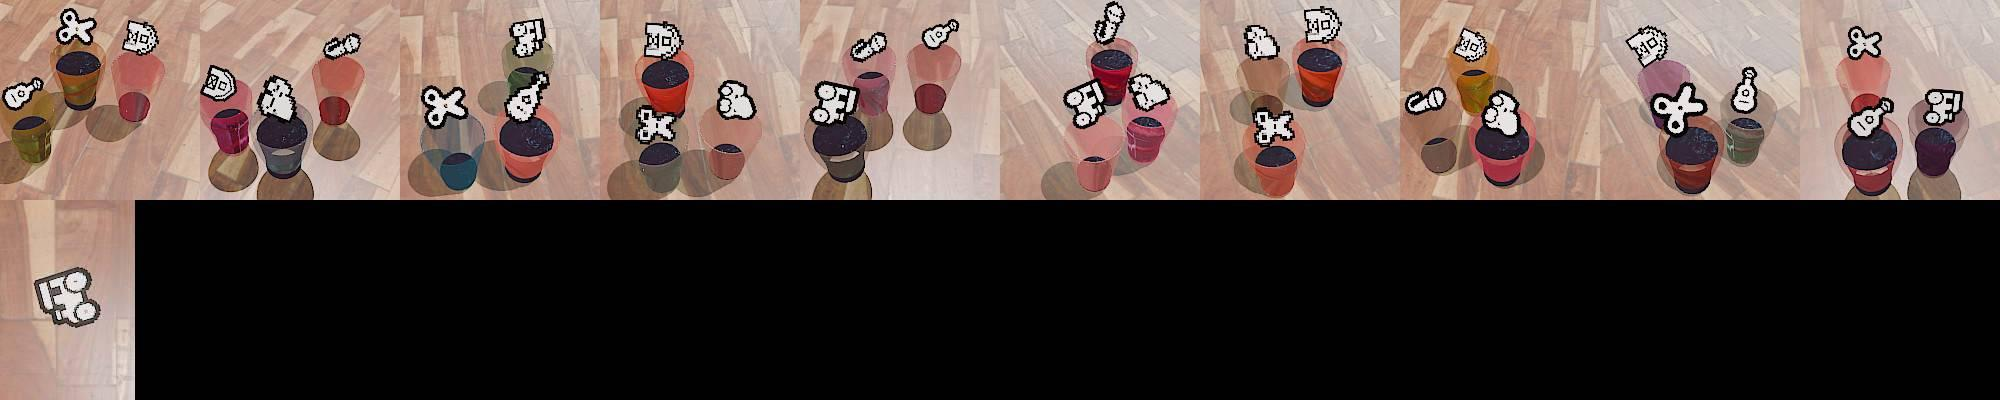icon: (33, 265, 102, 329), (1652, 80, 1710, 136), (810, 79, 858, 126), (1064, 79, 1108, 129), (504, 71, 547, 122), (1849, 94, 1897, 139), (421, 84, 468, 129), (1482, 89, 1524, 138), (258, 74, 297, 122), (1625, 24, 1670, 66), (1128, 71, 1173, 112), (1251, 106, 1296, 146), (716, 79, 758, 120), (634, 106, 679, 144), (1920, 89, 1963, 127), (643, 20, 682, 61), (1302, 5, 1342, 45), (56, 8, 97, 46), (1093, 1, 1126, 46), (1731, 65, 1760, 115), (510, 19, 546, 59), (3, 76, 43, 111), (1244, 24, 1281, 61), (200, 65, 237, 102), (121, 19, 158, 56), (921, 18, 959, 51), (849, 29, 888, 62), (1404, 85, 1446, 115), (1847, 25, 1881, 60), (1453, 27, 1486, 60), (323, 32, 361, 59)
